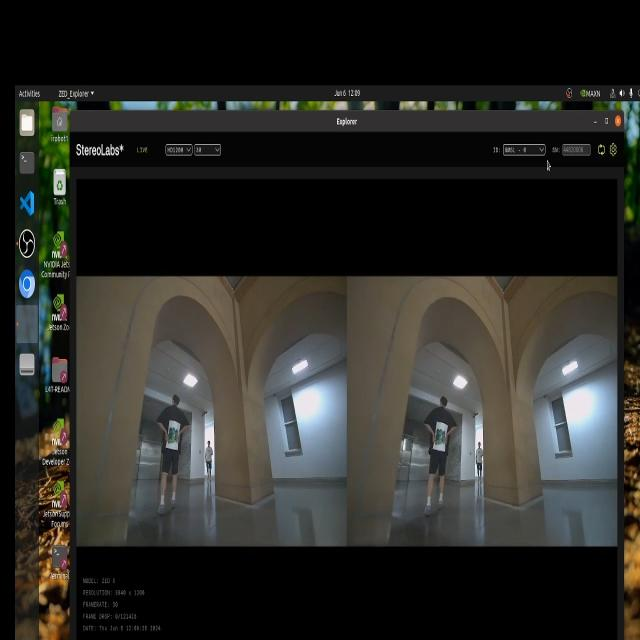green: (432, 426, 448, 450), (165, 425, 179, 446)
